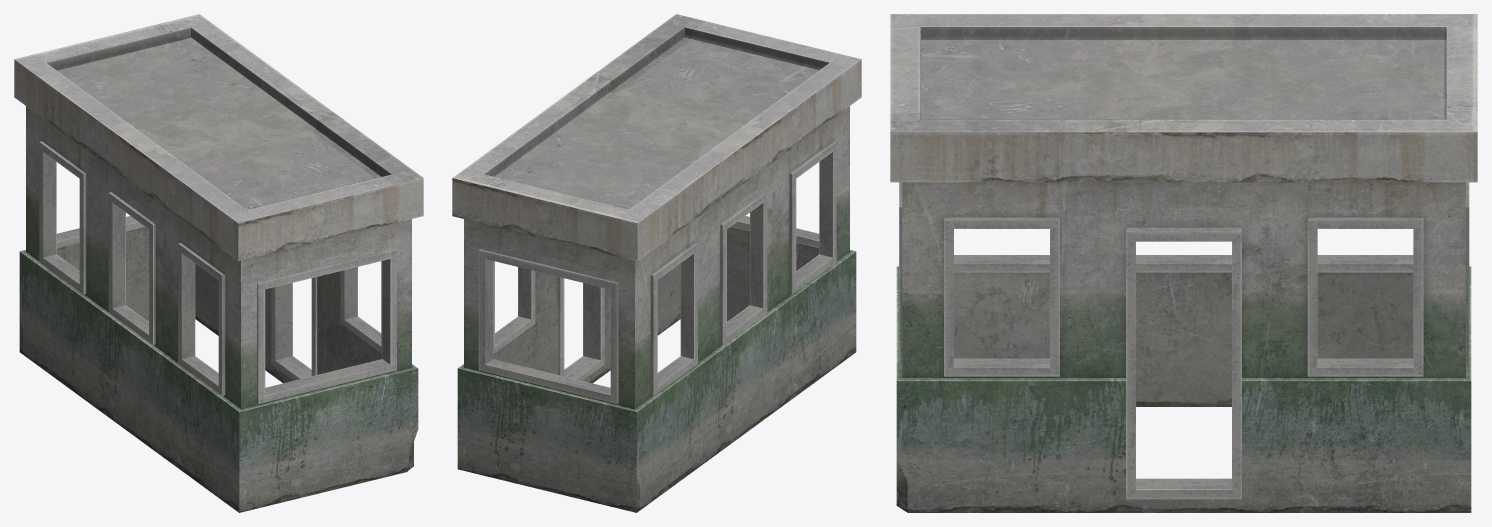
The model's file is Building_Mws02_lod1.glb.
3 renders of one model, left to right at view 1: azimuth 30°, elevation 25°; view 2: azimuth 150°, elevation 25°; view 3: azimuth 270°, elevation 25°, orthographic. The views are drawn at different scales.
Visible parts, largest first — view 1: xiutz_mws_02_lod1; view 2: xiutz_mws_02_lod1; view 3: xiutz_mws_02_lod1.
Boxes of the visible parts, bbox=[...] form: xiutz_mws_02_lod1: bbox=[14, 14, 423, 512]; xiutz_mws_02_lod1: bbox=[452, 14, 861, 512]; xiutz_mws_02_lod1: bbox=[890, 14, 1477, 512].
Size of the model in its own units: 3.42 by 5.14 by 7.15.
Materials: 1 (1 with a texture image).
